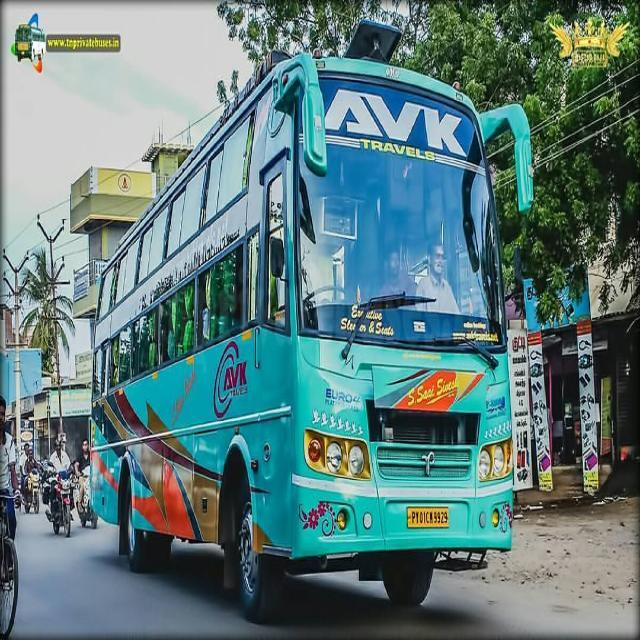Bus: (87, 18, 533, 624)
